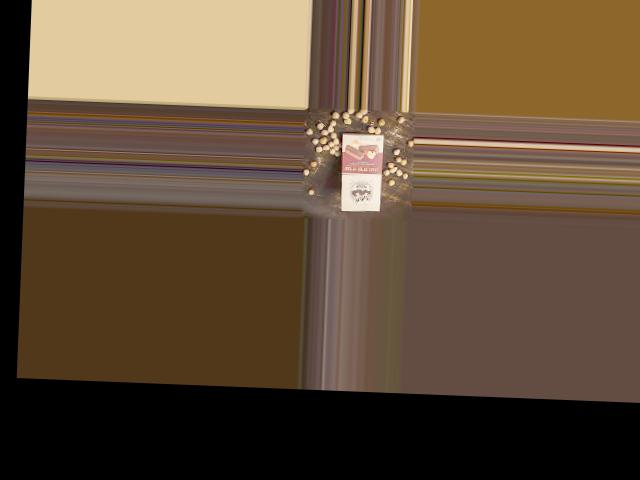chocolate: (335, 131, 386, 214)
